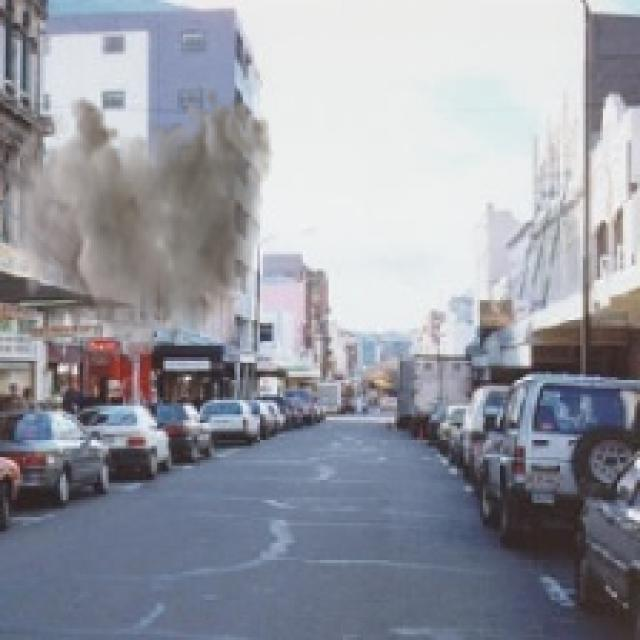smoke: (0, 88, 275, 372)
